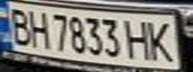3: (100, 16, 127, 58), (84, 15, 106, 56)
7: (45, 11, 69, 52)
8: (66, 12, 84, 54)
B: (3, 4, 36, 47)
H: (124, 17, 154, 61), (24, 7, 51, 50)
K: (142, 17, 181, 63)
